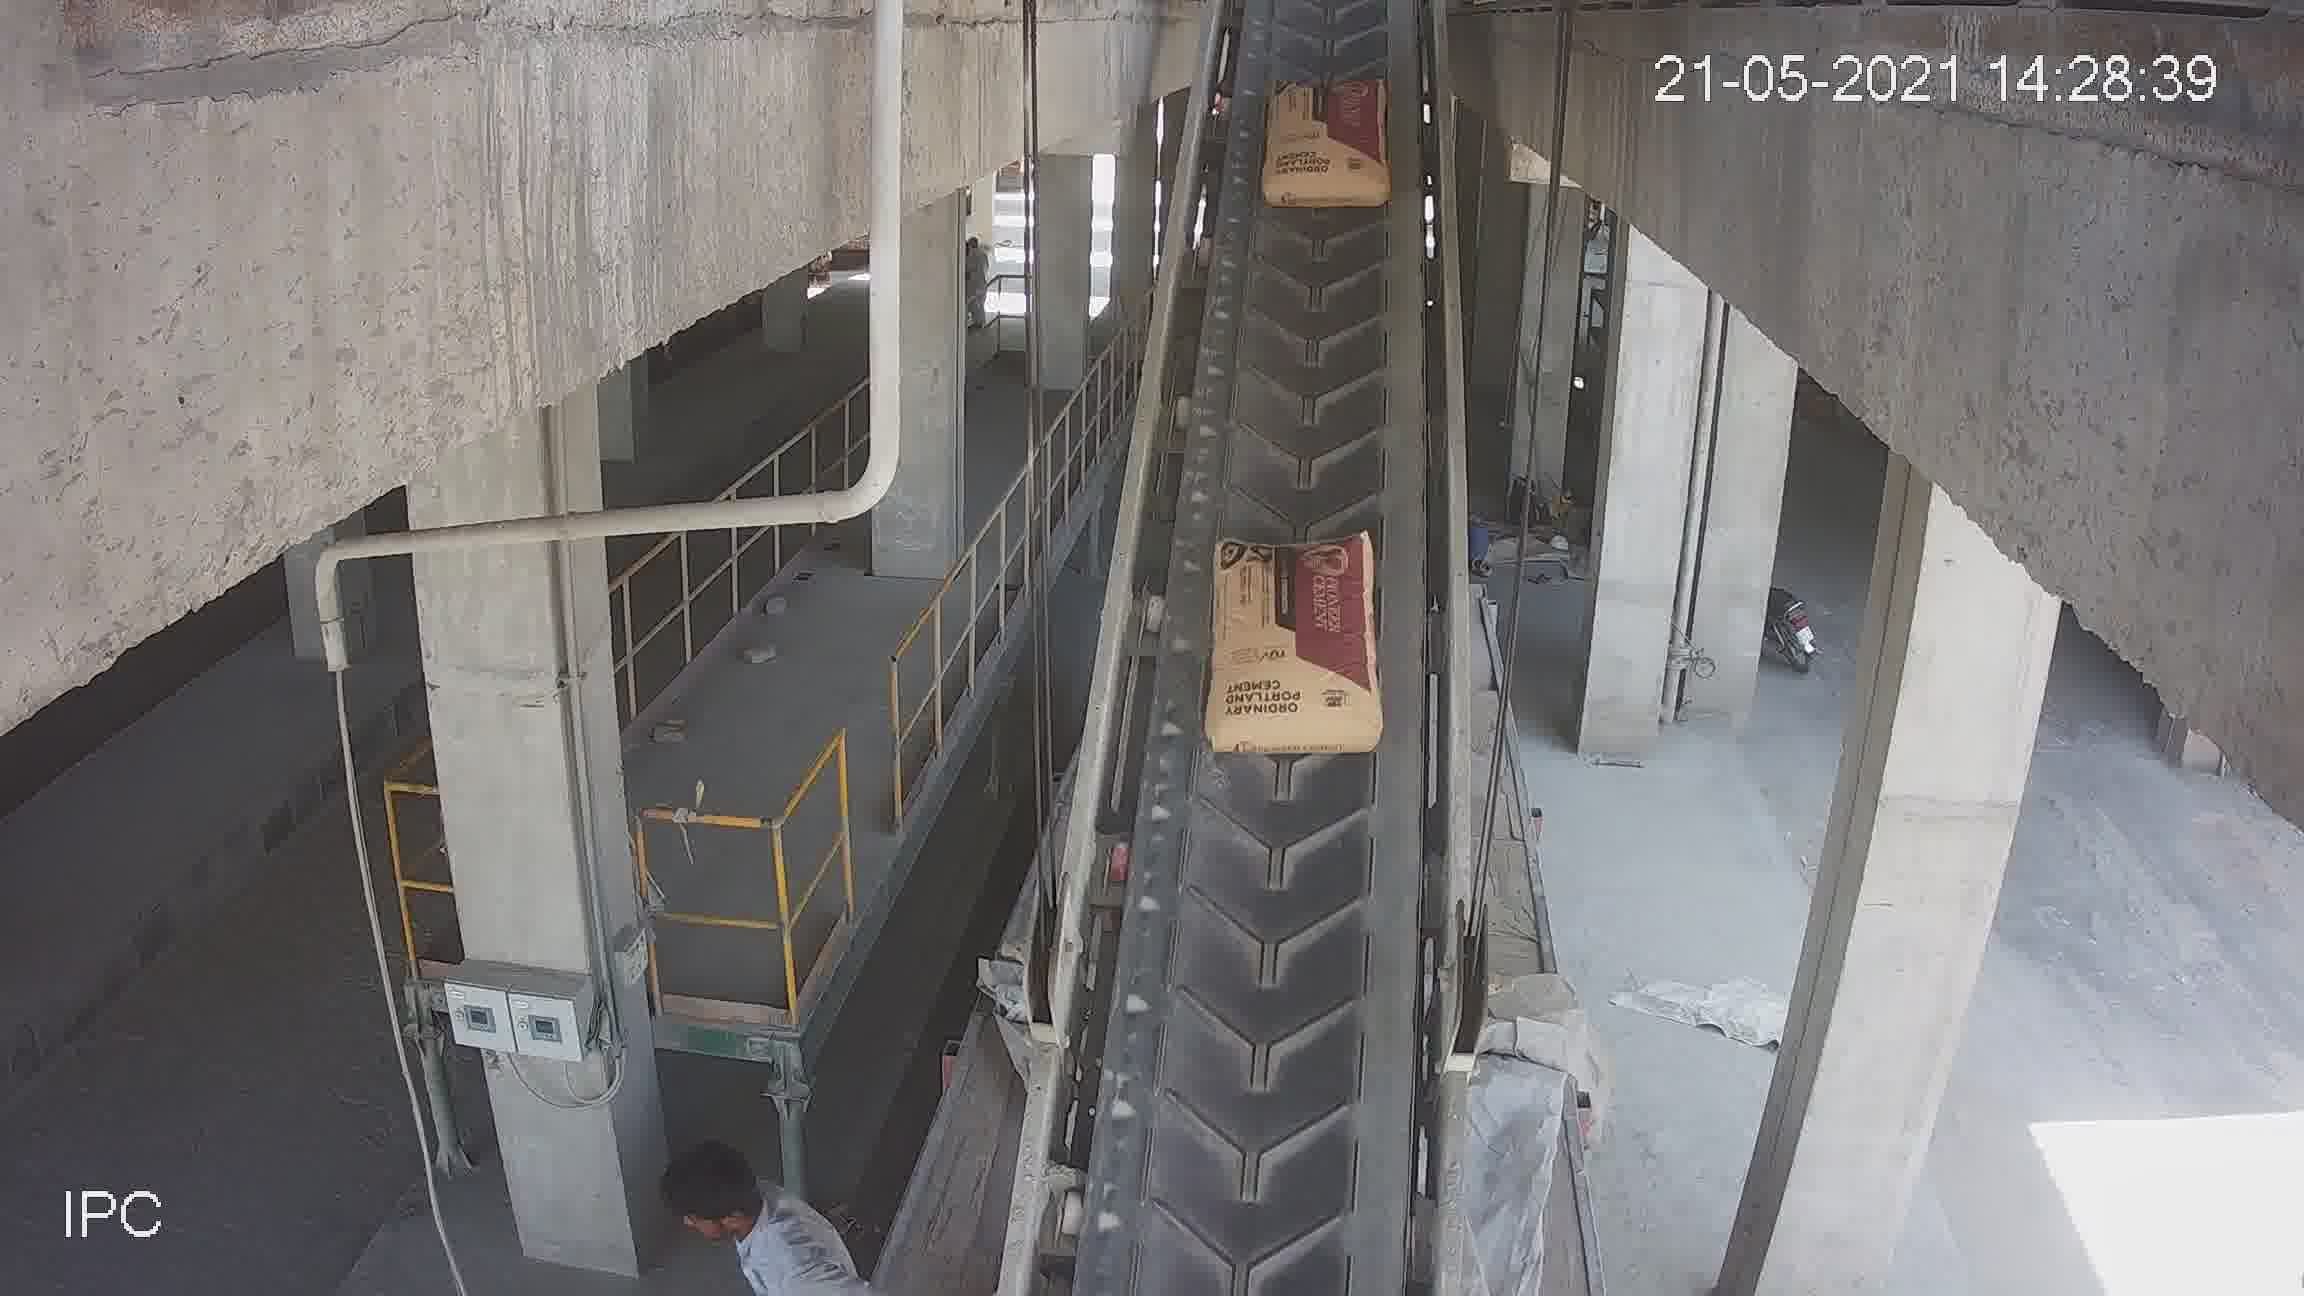bag: (1214, 533, 1378, 755), (1263, 85, 1389, 209)
belt: (1035, 17, 1470, 1249)
